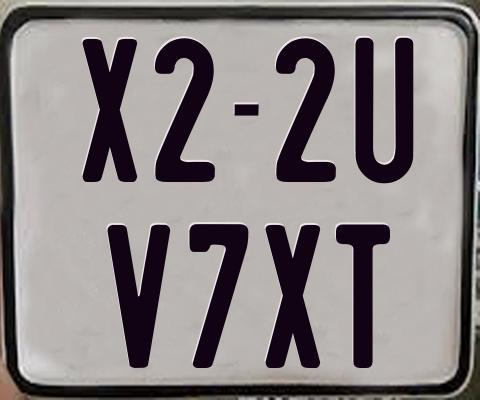2: (273, 35, 337, 179), (152, 36, 212, 182)
7: (187, 224, 250, 370)
T: (333, 224, 392, 369)
U: (354, 36, 419, 187)
V: (107, 222, 171, 368)
X: (80, 37, 141, 180), (265, 224, 320, 368)
